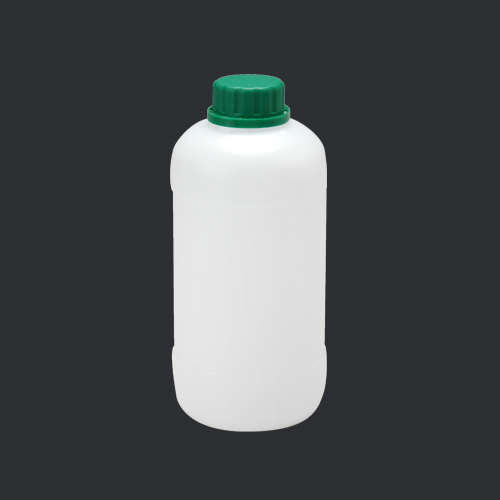plastic_bottle: (164, 64, 343, 437)
